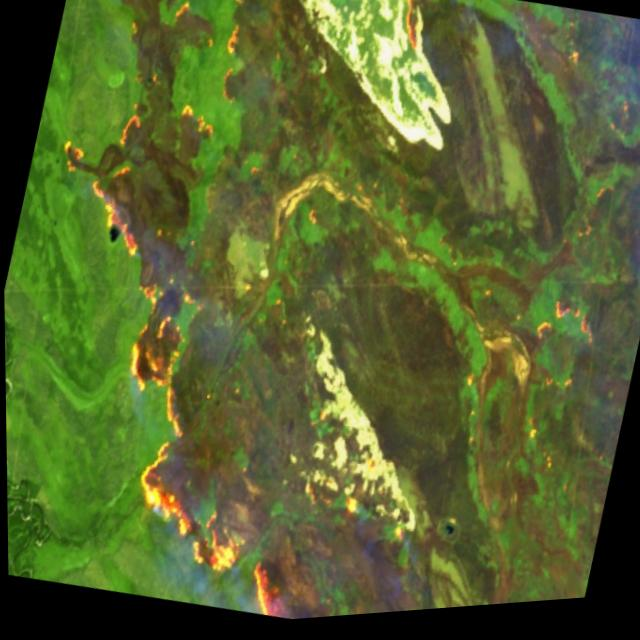fire: (0, 0, 445, 640)
